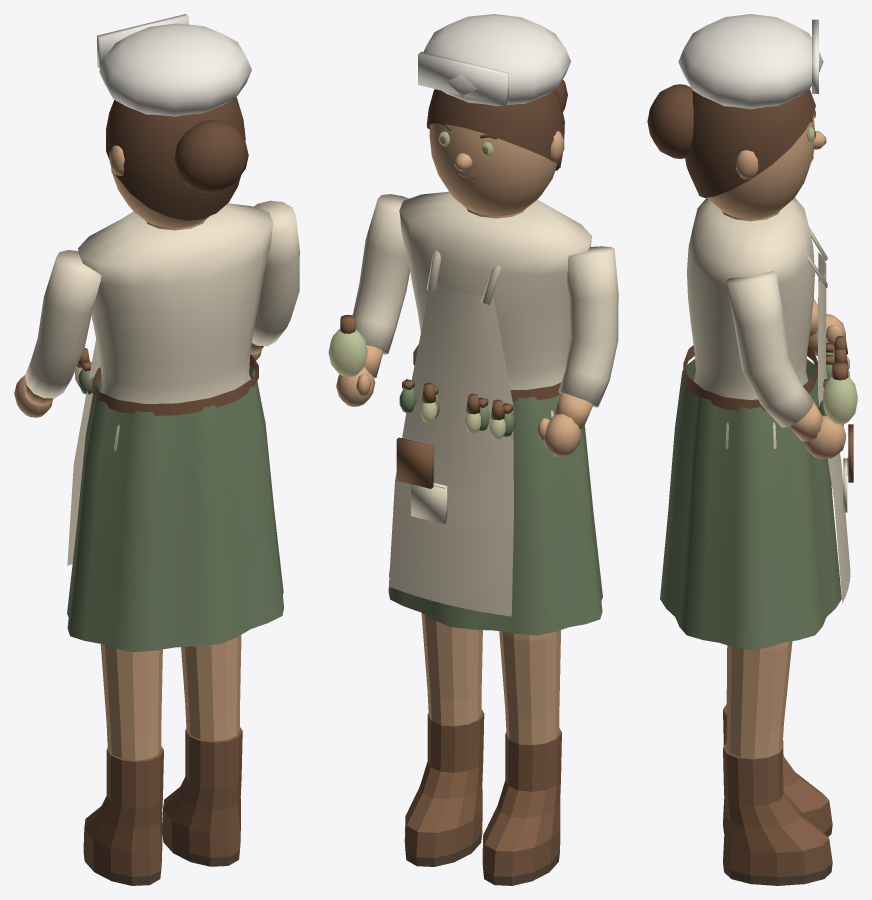
The model's file is SM_NPC_TUFA.glb.
The picture shows the model from 3 angles, left to right: view 1: azimuth 30°, elevation 25°; view 2: azimuth 150°, elevation 25°; view 3: azimuth 270°, elevation 25°; orthographic projection.
Parts seen in each view (by area): view 1: SM_NPC_TUFA_BODY, SM_NPC_TUFA_HAIR, SM_NPC_TUFA_LEG_L, SM_NPC_TUFA_LEG_R, SM_NPC_TUFA_ARM_L, SM_NPC_TUFA_ARM_R, SM_NPC_TUFA_HEAD; view 2: SM_NPC_TUFA_BODY, SM_NPC_TUFA_HAIR, SM_NPC_TUFA_LEG_L, SM_NPC_TUFA_LEG_R, SM_NPC_TUFA_ARM_L, SM_NPC_TUFA_ARM_R, SM_NPC_TUFA_HEAD; view 3: SM_NPC_TUFA_BODY, SM_NPC_TUFA_HAIR, SM_NPC_TUFA_LEG_R, SM_NPC_TUFA_ARM_R, SM_NPC_TUFA_HEAD, SM_NPC_TUFA_LEG_L, SM_NPC_TUFA_ARM_L.
Boxes of the visible parts, x1=… form: SM_NPC_TUFA_BODY: x1=67, y1=203, x2=283, y2=652; SM_NPC_TUFA_HAIR: x1=97, y1=14, x2=251, y2=220; SM_NPC_TUFA_LEG_L: x1=83, y1=644, x2=163, y2=885; SM_NPC_TUFA_LEG_R: x1=162, y1=635, x2=242, y2=866; SM_NPC_TUFA_ARM_L: x1=14, y1=250, x2=101, y2=417; SM_NPC_TUFA_ARM_R: x1=250, y1=200, x2=299, y2=360; SM_NPC_TUFA_HEAD: x1=109, y1=129, x2=244, y2=227; SM_NPC_TUFA_BODY: x1=388, y1=191, x2=602, y2=635; SM_NPC_TUFA_HAIR: x1=418, y1=14, x2=570, y2=170; SM_NPC_TUFA_LEG_L: x1=482, y1=630, x2=561, y2=885; SM_NPC_TUFA_LEG_R: x1=404, y1=613, x2=484, y2=866; SM_NPC_TUFA_ARM_L: x1=537, y1=246, x2=618, y2=457; SM_NPC_TUFA_ARM_R: x1=328, y1=194, x2=409, y2=406; SM_NPC_TUFA_HEAD: x1=429, y1=123, x2=564, y2=216; SM_NPC_TUFA_BODY: x1=660, y1=198, x2=853, y2=650; SM_NPC_TUFA_HAIR: x1=647, y1=14, x2=823, y2=197; SM_NPC_TUFA_LEG_R: x1=723, y1=641, x2=832, y2=885; SM_NPC_TUFA_ARM_R: x1=725, y1=271, x2=857, y2=459; SM_NPC_TUFA_HEAD: x1=707, y1=116, x2=826, y2=219; SM_NPC_TUFA_LEG_L: x1=723, y1=648, x2=832, y2=836; SM_NPC_TUFA_ARM_L: x1=808, y1=299, x2=845, y2=356.
Bounding box in the file's own units: 0.6008 × 1.86 × 0.4295.
